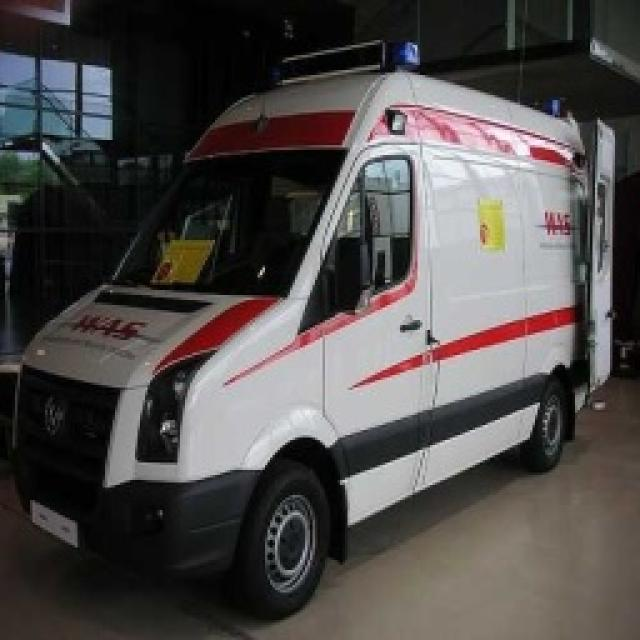emergency-vehicle: (24, 40, 608, 625)
